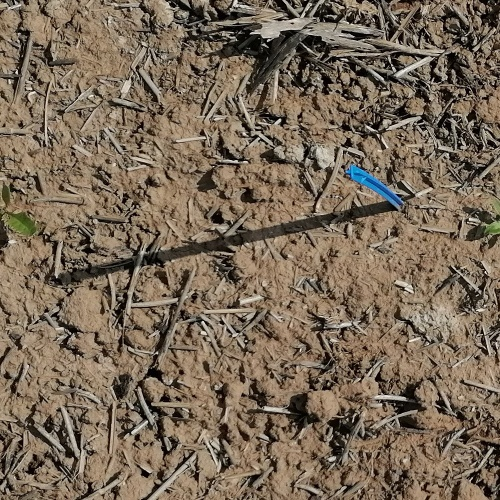beet: (0, 185, 37, 236), (488, 196, 500, 235)
